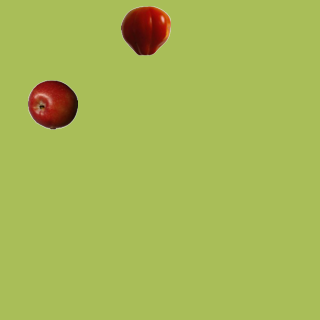Apple Braeburn: (27, 79, 77, 129)
Tomato 1: (120, 5, 170, 55)
